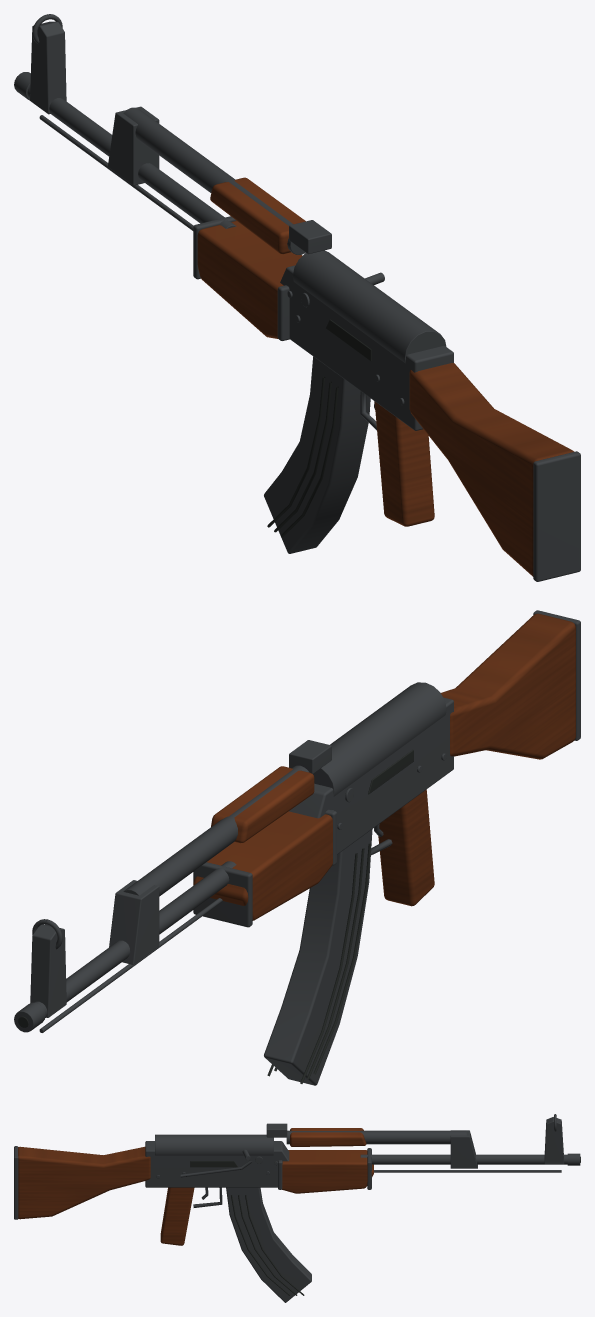
Rendered from radwan-rifle-master.glb.
The picture shows the model from 3 angles, top to bottom: view 1: azimuth 30°, elevation 25°; view 2: azimuth 150°, elevation 25°; view 3: azimuth 270°, elevation 25°; orthographic projection. The views are drawn at different scales.
Parts seen in each view (by area): view 1: AKM wooden buttstock, AKM curved magazine, AKM stamped receiver, AKM rounded dust cover, AKM lower handguard, AKM butt plate, AKM sloped pistol grip, AKM gas tube, AKM barrel, AKM upper handguard, AKM front sight base, AKM gas block (+2 smaller); view 2: AKM wooden buttstock, AKM curved magazine, AKM lower handguard, AKM stamped receiver, AKM rounded dust cover, AKM sloped pistol grip, AKM upper handguard, AKM gas tube, AKM barrel, AKM gas block, AKM front sight base, AKM handguard metal band.001 (+7 smaller); view 3: AKM wooden buttstock, AKM curved magazine, AKM stamped receiver, AKM lower handguard, AKM rounded dust cover, AKM barrel, AKM gas tube, AKM sloped pistol grip, AKM upper handguard, AKM gas block, AKM front sight base, AKM cleaning rod (+4 smaller).
Part boxes in pixels (left/top/right/bottom): AKM wooden buttstock: left=409, top=363, right=573, bottom=576; AKM curved magazine: left=264, top=356, right=370, bottom=553; AKM stamped receiver: left=280, top=265, right=453, bottom=430; AKM rounded dust cover: left=292, top=250, right=446, bottom=363; AKM lower handguard: left=197, top=220, right=302, bottom=338; AKM butt plate: left=533, top=451, right=580, bottom=581; AKM sloped pistol grip: left=374, top=401, right=434, bottom=526; AKM gas tube: left=123, top=107, right=305, bottom=254; AKM barrel: left=27, top=86, right=236, bottom=228; AKM upper handguard: left=210, top=177, right=305, bottom=254; AKM front sight base: left=30, top=21, right=66, bottom=114; AKM gas block: left=108, top=106, right=159, bottom=185; AKM wooden buttstock: left=441, top=613, right=575, bottom=759; AKM curved magazine: left=264, top=829, right=372, bottom=1085; AKM lower handguard: left=193, top=811, right=332, bottom=920; AKM stamped receiver: left=289, top=697, right=453, bottom=854; AKM rounded dust cover: left=313, top=682, right=446, bottom=796; AKM sloped pistol grip: left=378, top=789, right=434, bottom=906; AKM upper handguard: left=211, top=766, right=314, bottom=843; AKM gas tube: left=123, top=765, right=309, bottom=896; AKM barrel: left=34, top=861, right=236, bottom=1017; AKM gas block: left=109, top=880, right=159, bottom=964; AKM front sight base: left=30, top=924, right=66, bottom=1017; AKM handguard metal band.001: left=193, top=862, right=252, bottom=927; AKM wooden buttstock: left=18, top=1146, right=150, bottom=1219; AKM curved magazine: left=226, top=1187, right=311, bottom=1302; AKM stamped receiver: left=145, top=1141, right=289, bottom=1187; AKM lower handguard: left=282, top=1150, right=373, bottom=1193; AKM rounded dust cover: left=155, top=1134, right=273, bottom=1155; AKM barrel: left=360, top=1154, right=567, bottom=1164; AKM gas tube: left=286, top=1130, right=466, bottom=1144; AKM sloped pistol grip: left=160, top=1187, right=194, bottom=1245; AKM upper handguard: left=290, top=1128, right=366, bottom=1146; AKM gas block: left=450, top=1130, right=477, bottom=1168; AKM front sight base: left=544, top=1117, right=564, bottom=1164; AKM cleaning rod: left=374, top=1170, right=561, bottom=1172.
Bounding box in the file's own units: 0.0697 × 0.317 × 0.8825.
3 materials, 1 textured.
